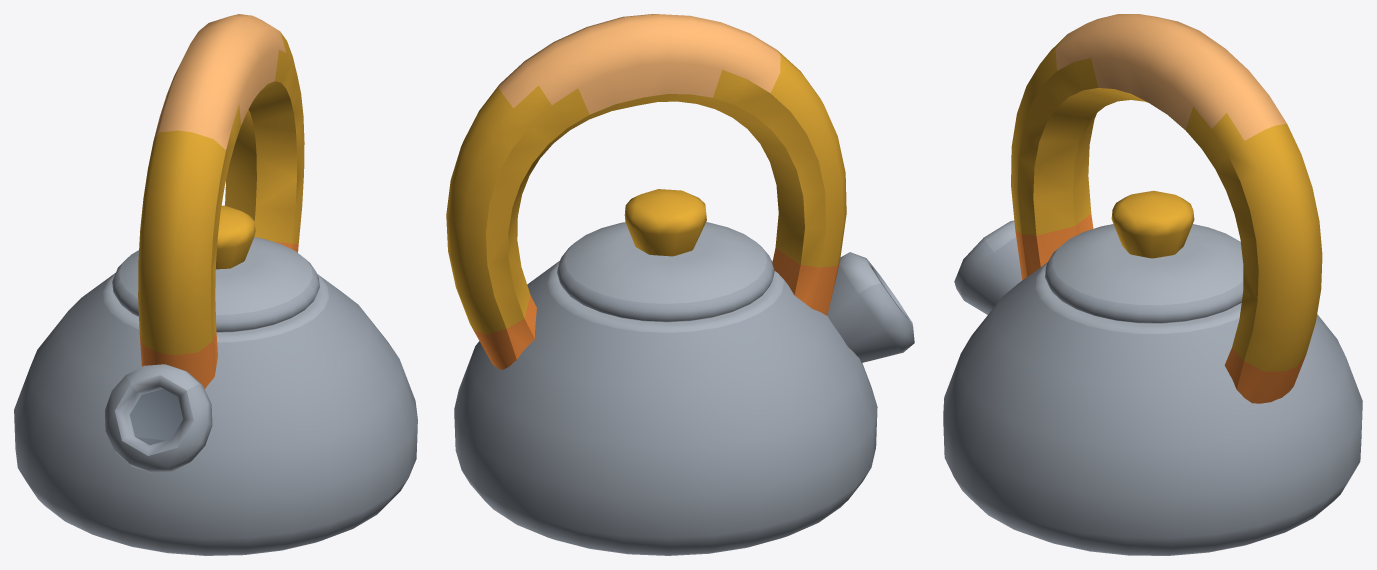
File: chaleira_natal_pacote.glb
3 views of the same model, side by side, from view 1: azimuth 30°, elevation 25°; view 2: azimuth 150°, elevation 25°; view 3: azimuth 270°, elevation 25° (orthographic). The views are drawn at different scales.
Visible parts, largest first — view 1: chaleira_natal_pacote; view 2: chaleira_natal_pacote; view 3: chaleira_natal_pacote.
Boxes of the visible parts, bbox=[...] form: chaleira_natal_pacote: bbox=[14, 14, 417, 555]; chaleira_natal_pacote: bbox=[446, 14, 914, 555]; chaleira_natal_pacote: bbox=[943, 14, 1362, 555].
Bounding box in the file's own units: 0.1925 × 0.2346 × 0.1925.
Materials: 1 (1 with a texture image).
